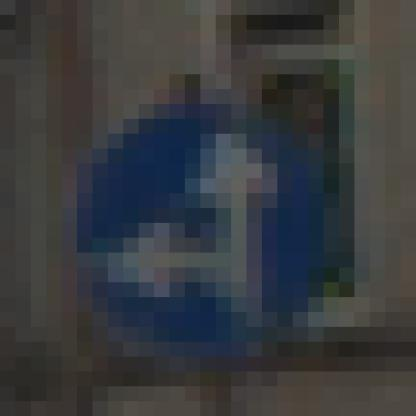Straight or Left: (78, 90, 340, 343)
